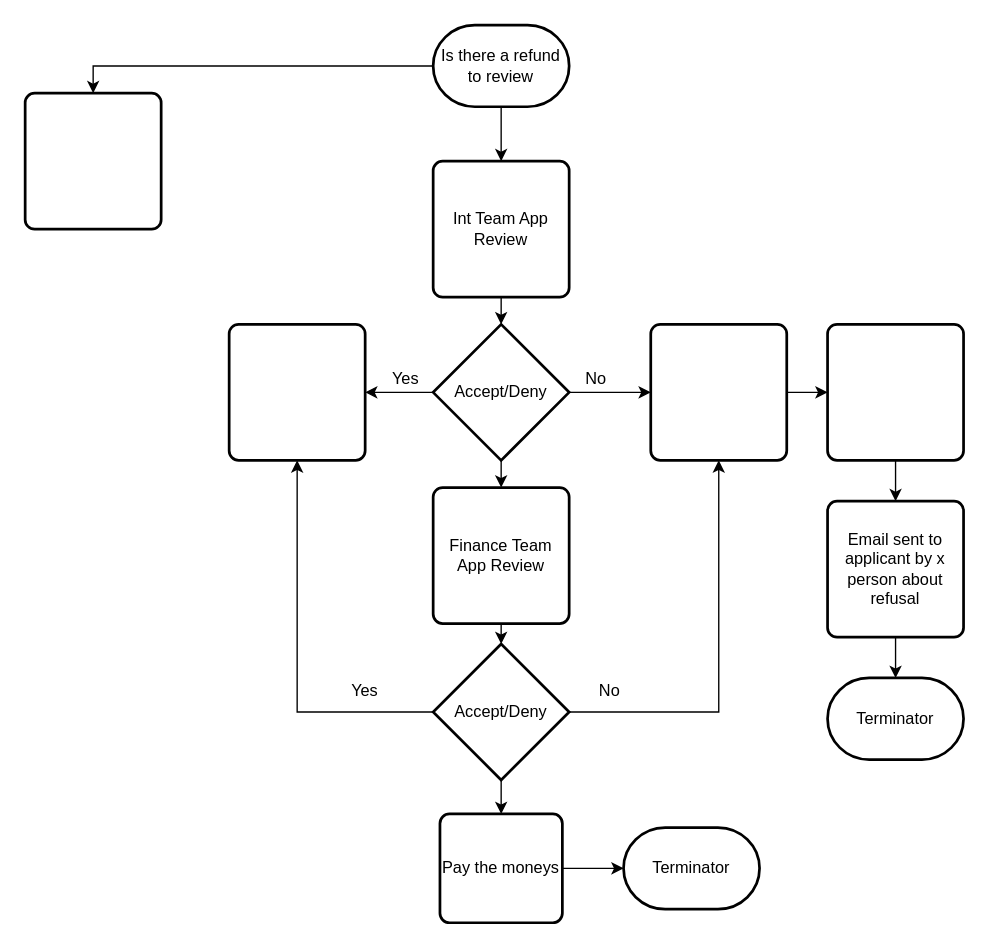
Image size: 987x947. Some labels were removed from this diagram. The shapes that lost their labels are listed below. From the top down, each one's box as (x1, y1, x2, y2) in pixels, then its label:
(23, 91, 162, 230): Email sent to x person(app to review)
(227, 322, 366, 461): Email Sent to applicant/ Database updated
(649, 322, 787, 461): Update database with denial and reason
(826, 322, 964, 461): Send email to x person letting them know about refusal
